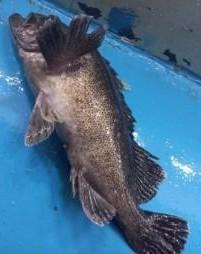fish: (9, 12, 190, 253)
